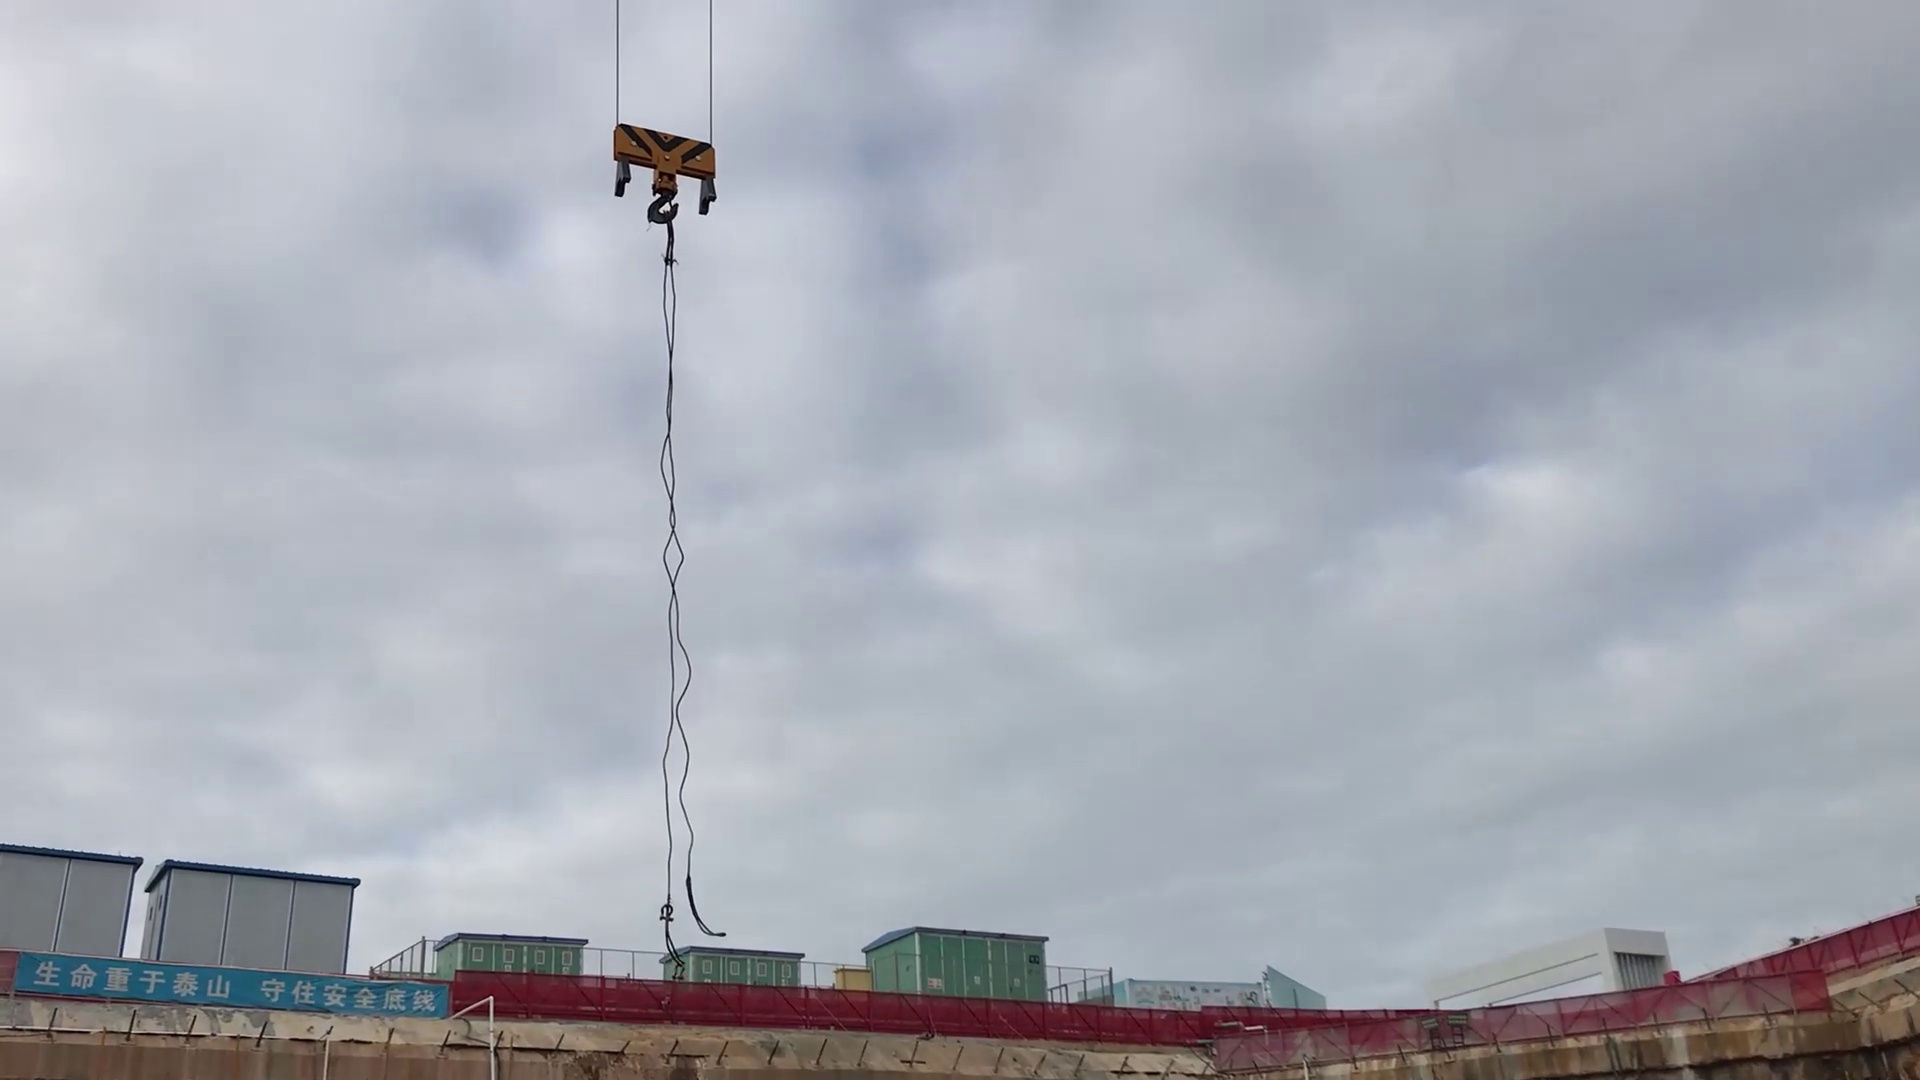hook: (604, 117, 727, 231)
slogan: (16, 951, 447, 1018)
